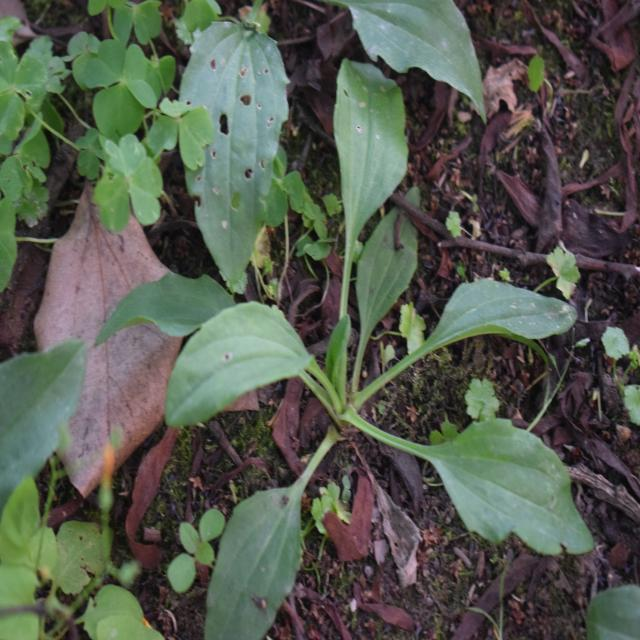plantain: (138, 1, 585, 586)
